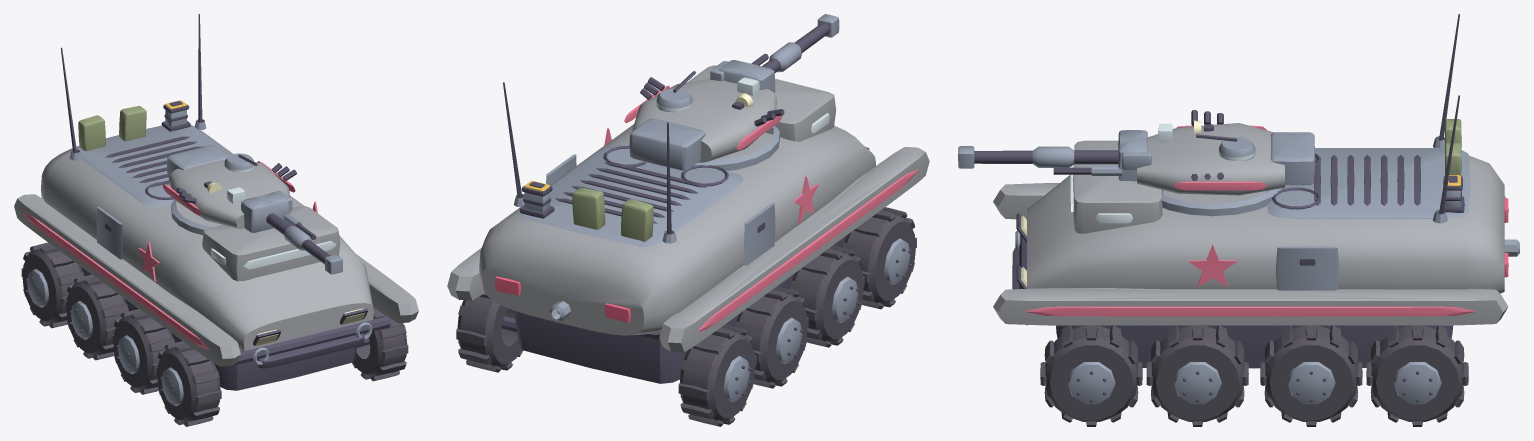
File: apc.glb
3 renders of one model, left to right at view 1: azimuth 30°, elevation 25°; view 2: azimuth 150°, elevation 25°; view 3: azimuth 270°, elevation 25°, orthographic. The views are drawn at different scales.
Visible parts, largest first — view 1: hull, fender-1, cab, deck, turBody, underbody, tyre0, tyre4, tyre6, tyre2, fender1, stripe-1 (+18 smaller); view 2: hull, fender-1, deck, underbody, turBody, tyre6, tyre2, cab, tyre4, tyre0, turBustle, tyre7 (+20 smaller); view 3: hull, fender1, deck, turBody, tyre3, tyre5, tyre7, tyre1, stripe1, cab, underbody, door1 (+14 smaller).
Boxes of the visible parts, left/top/right/bottom form: hull: left=40, top=128, right=373, bottom=351; fender-1: left=14, top=194, right=240, bottom=366; cab: left=202, top=206, right=340, bottom=281; deck: left=76, top=125, right=232, bottom=207; turBody: left=169, top=159, right=290, bottom=228; underbody: left=80, top=266, right=356, bottom=390; tyre0: left=157, top=347, right=220, bottom=422; tyre4: left=66, top=280, right=126, bottom=356; tyre6: left=22, top=248, right=82, bottom=324; tyre2: left=113, top=315, right=173, bottom=390; fender1: left=356, top=254, right=418, bottom=323; stripe-1: left=23, top=213, right=209, bottom=349; hull: left=479, top=124, right=875, bottom=335; fender-1: left=659, top=147, right=929, bottom=352; deck: left=517, top=145, right=743, bottom=247; underbody: left=514, top=235, right=846, bottom=383; turBody: left=632, top=79, right=776, bottom=162; tyre6: left=680, top=332, right=755, bottom=421; tyre2: left=792, top=252, right=863, bottom=342; cab: left=687, top=65, right=836, bottom=141; tyre4: left=736, top=293, right=807, bottom=383; tyre0: left=844, top=214, right=915, bottom=304; turBustle: left=629, top=118, right=705, bottom=170; tyre7: left=457, top=296, right=522, bottom=367; hull: left=1027, top=155, right=1504, bottom=293; fender1: left=993, top=288, right=1508, bottom=325; deck: left=1266, top=148, right=1470, bottom=218; turBody: left=1137, top=123, right=1284, bottom=195; tyre3: left=1151, top=326, right=1243, bottom=421; tyre5: left=1265, top=326, right=1357, bottom=421; tyre7: left=1371, top=326, right=1463, bottom=421; tyre1: left=1045, top=326, right=1137, bottom=421; stripe1: left=1023, top=306, right=1477, bottom=316; cab: left=1073, top=140, right=1163, bottom=233; underbody: left=1056, top=325, right=1452, bottom=368; door1: left=1275, top=246, right=1339, bottom=290.
Size of the model in its own units: 4.28 by 4.52 by 7.41.
